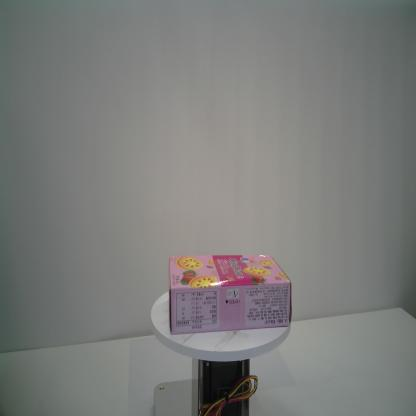Dessert: (167, 252, 293, 337)
